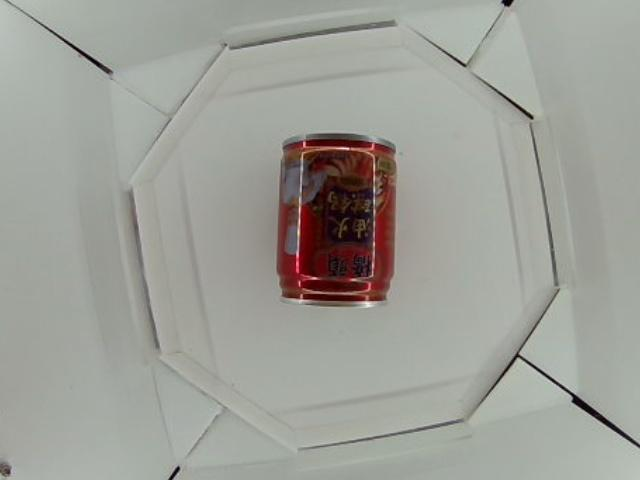Bottle: (277, 135, 394, 309)
